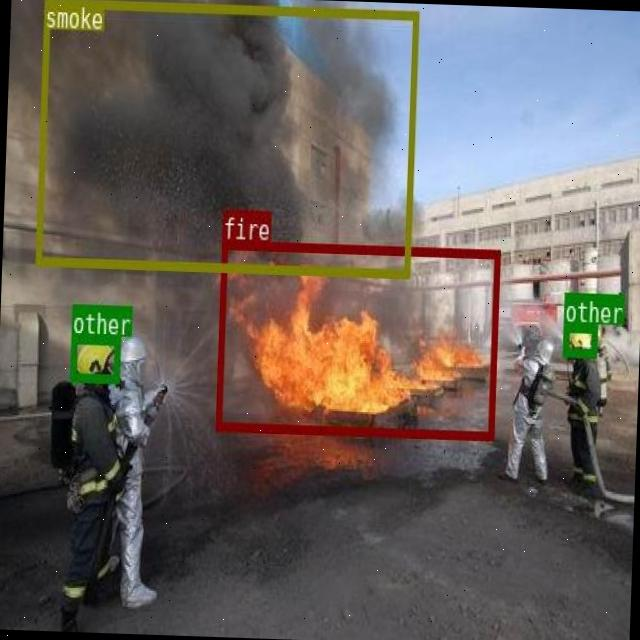fire: (214, 240, 498, 440)
smoke: (34, 0, 418, 277)
